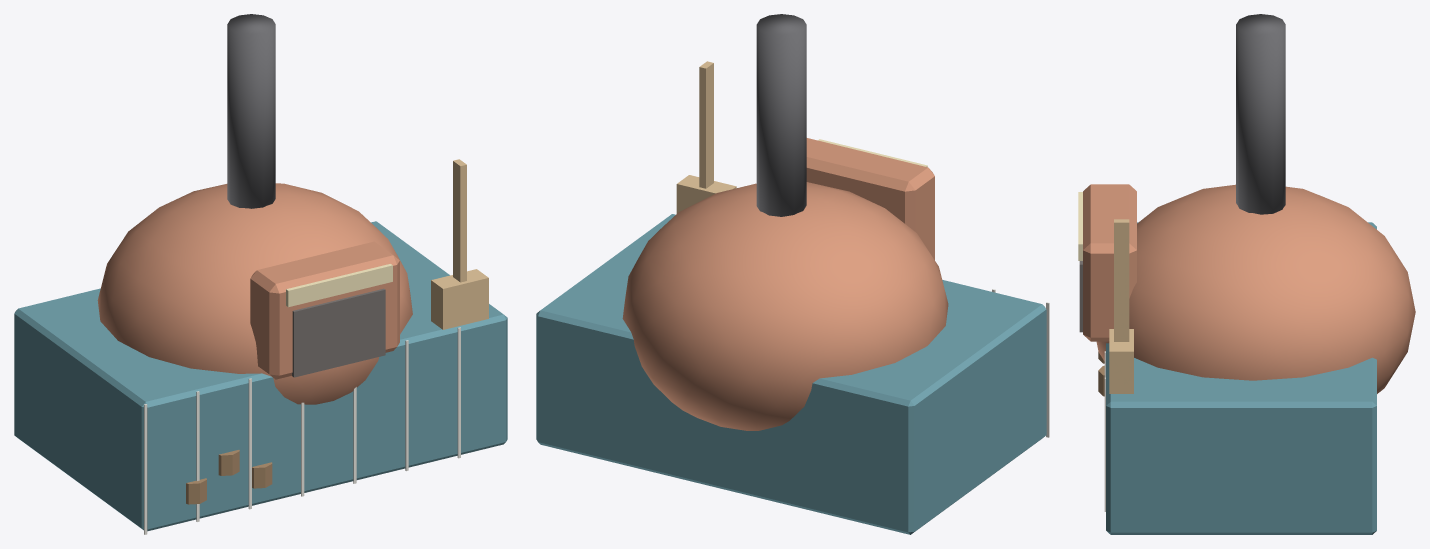
The model's file is pizza-oven.glb.
The picture shows the model from 3 angles, left to right: view 1: azimuth 30°, elevation 25°; view 2: azimuth 150°, elevation 25°; view 3: azimuth 270°, elevation 25°; orthographic projection. The views are drawn at different scales.
Parts seen in each view (by area): view 1: pizza-oven; view 2: pizza-oven; view 3: pizza-oven.
Part boxes in pixels (box(x1,y1,x2,y2)): pizza-oven: box(14, 14, 507, 534); pizza-oven: box(536, 14, 1049, 534); pizza-oven: box(1078, 14, 1415, 534).
Bounding box in the file's own units: 2.8 × 3 × 2.18.
